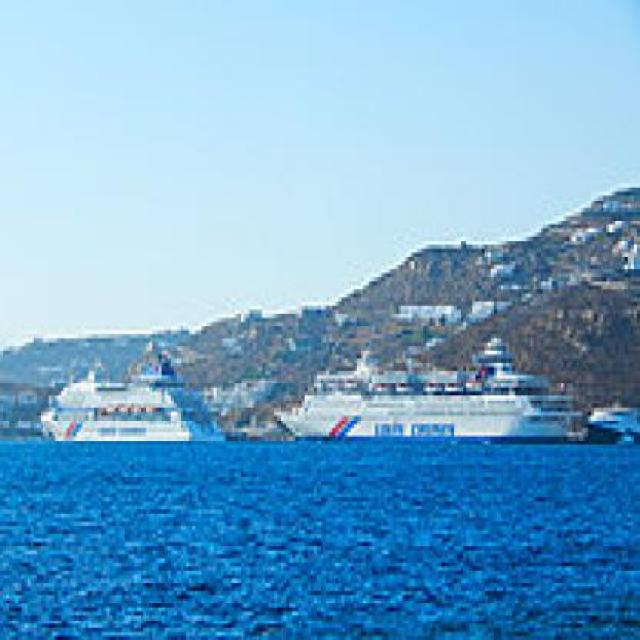cruise: (273, 348, 602, 462), (34, 343, 230, 454)
